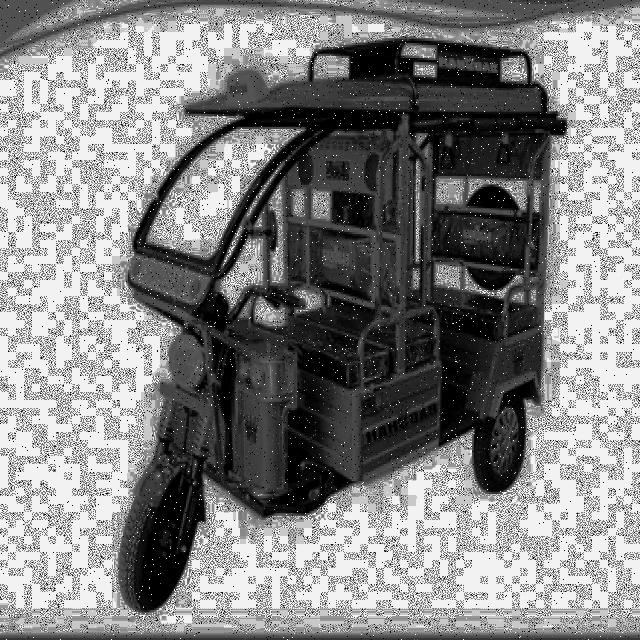Toto: (119, 72, 562, 611)
